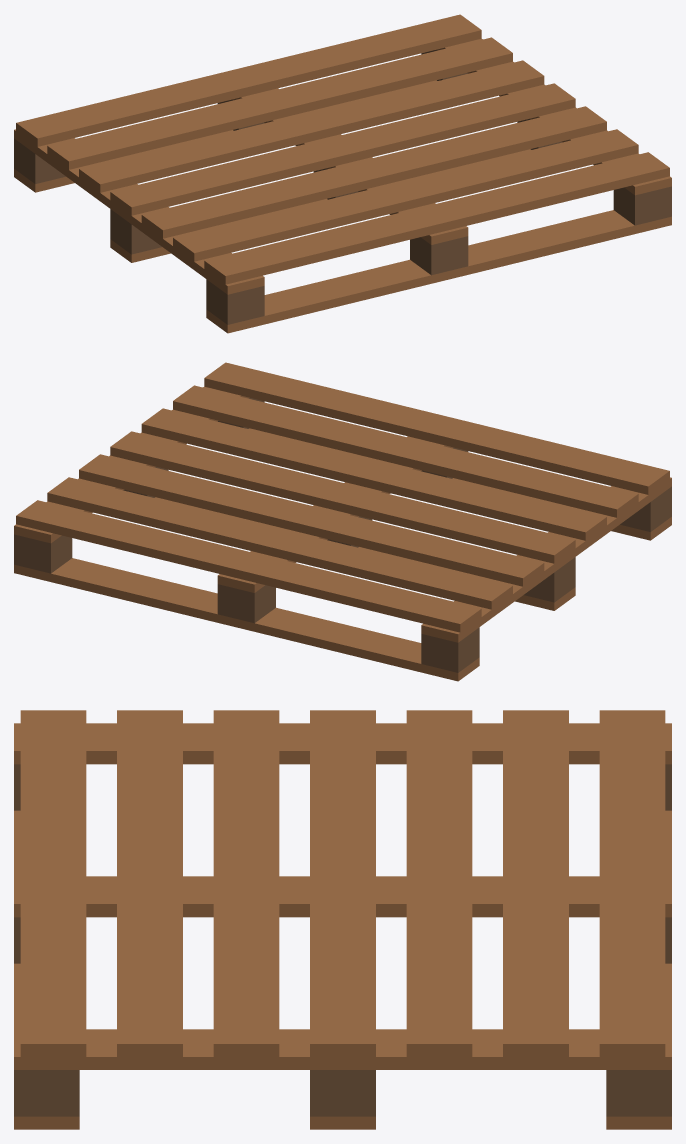
The model's file is pallet.glb.
3 renders of one model, top to bottom at view 1: azimuth 30°, elevation 25°; view 2: azimuth 150°, elevation 25°; view 3: azimuth 270°, elevation 25°, orthographic. The views are drawn at different scales.
Visible parts, largest first — view 1: pallet; view 2: pallet; view 3: pallet.
Boxes of the visible parts, x1,y1,x2,y2 form: pallet: (14, 14, 671, 333); pallet: (14, 362, 671, 681); pallet: (14, 710, 671, 1129).
Size of the model in its own units: 1.2 by 0.144 by 1.
